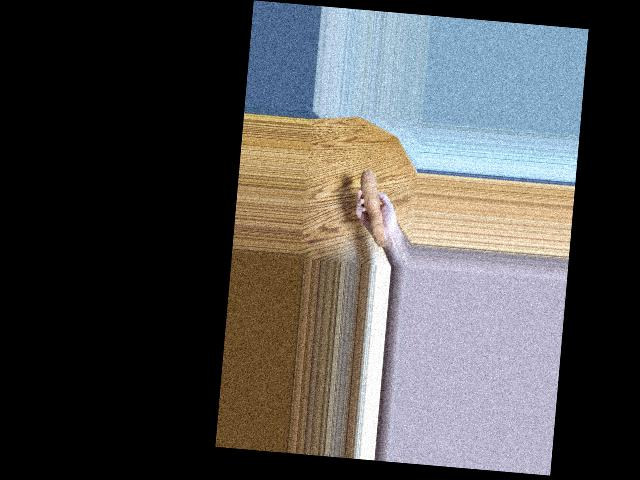sweet_potato: (353, 172, 388, 243)
